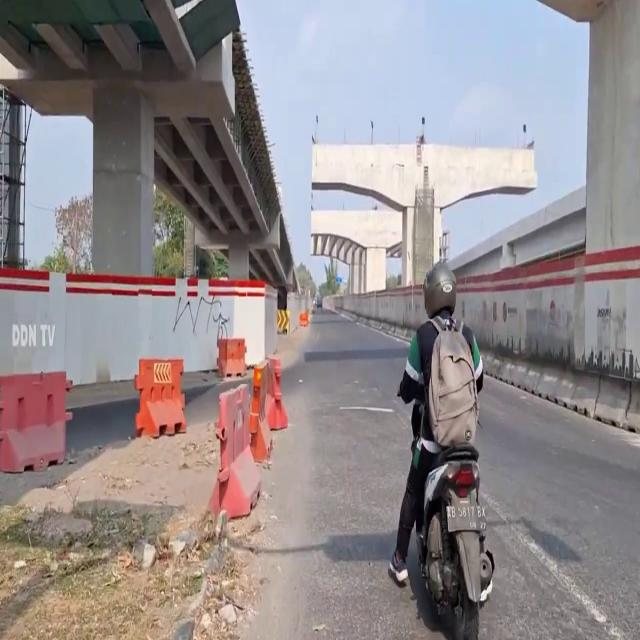WithHelmet: (388, 261, 485, 587)
